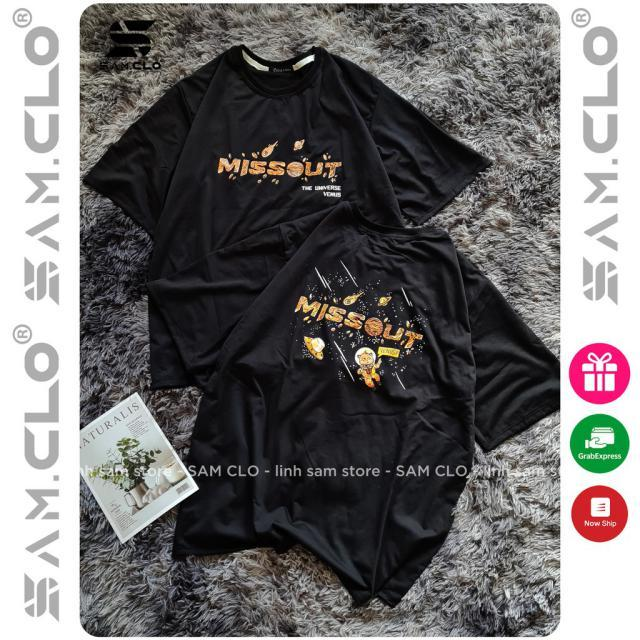Shirt: (136, 192, 562, 594)
